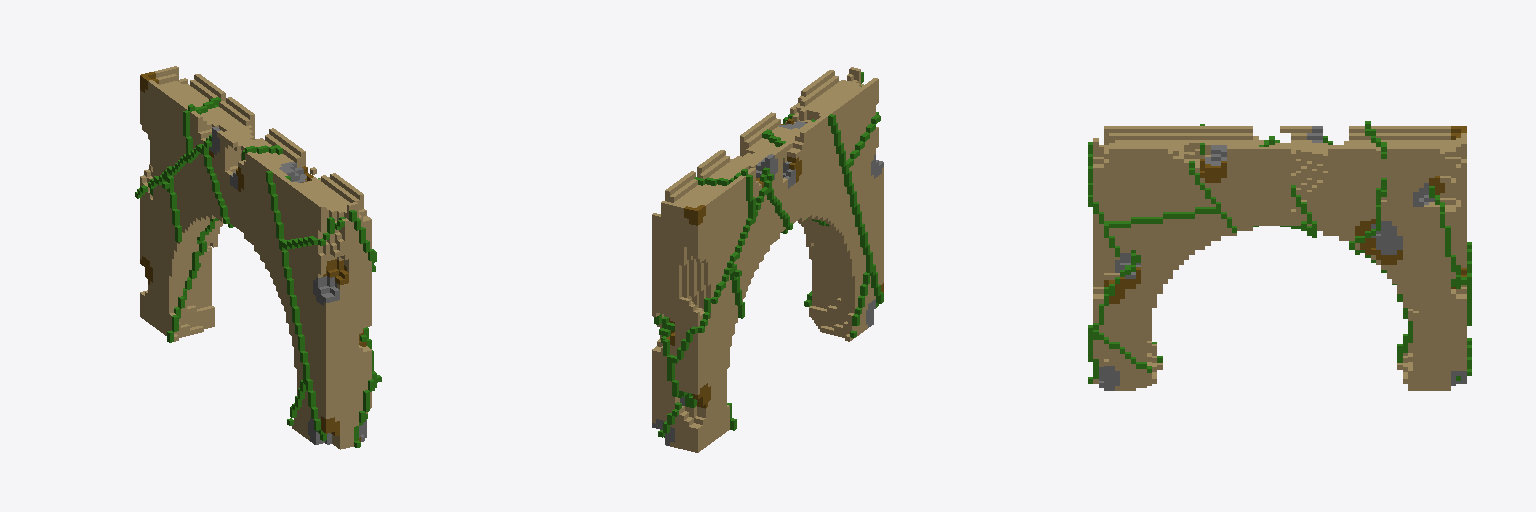
The picture shows the model from 3 angles: view 1: azimuth 30°, elevation 25°; view 2: azimuth 150°, elevation 25°; view 3: azimuth 270°, elevation 25°; orthographic projection.
Parts seen in each view (by area): view 1: object 1; view 2: object 1; view 3: object 1.
Boxes of the visible parts, x1,y1,x2,y2 form: object 1: [135, 66, 381, 449]; object 1: [652, 67, 883, 452]; object 1: [1088, 121, 1471, 390].
Bounding box in the file's own units: 1.4 × 5.1 × 7.2.
1 materials, 1 textured.